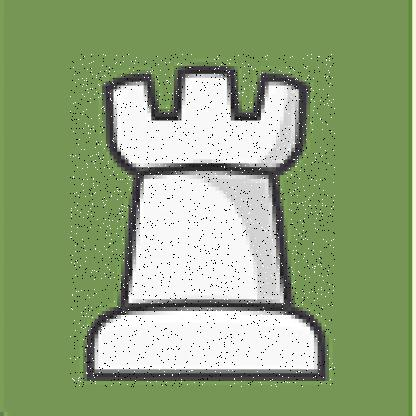White Castle: (70, 54, 336, 388)
